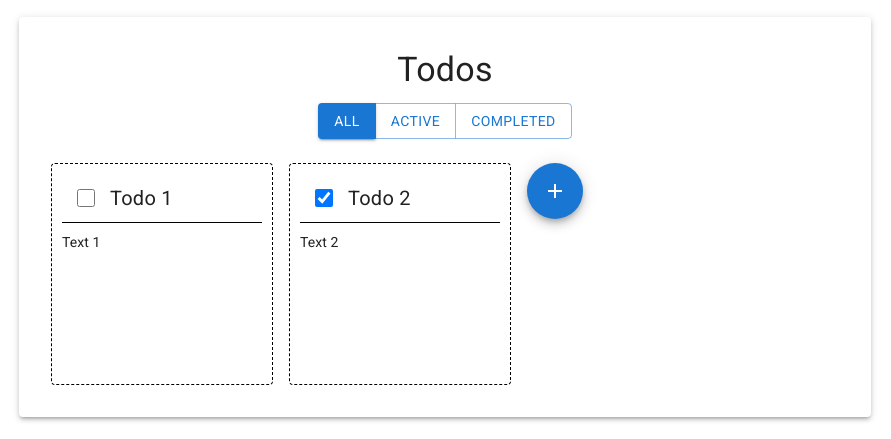
Scenario: App › filters active todos
The width and height of the screenshot is (891, 439).
expect the text "Todo 1" is shown: met, box [110,186,173,210]
What coordinates should you click on to do the following:
click the button "Active"
I would click on:
 (415, 121)
Its box is [375,103,456,139].
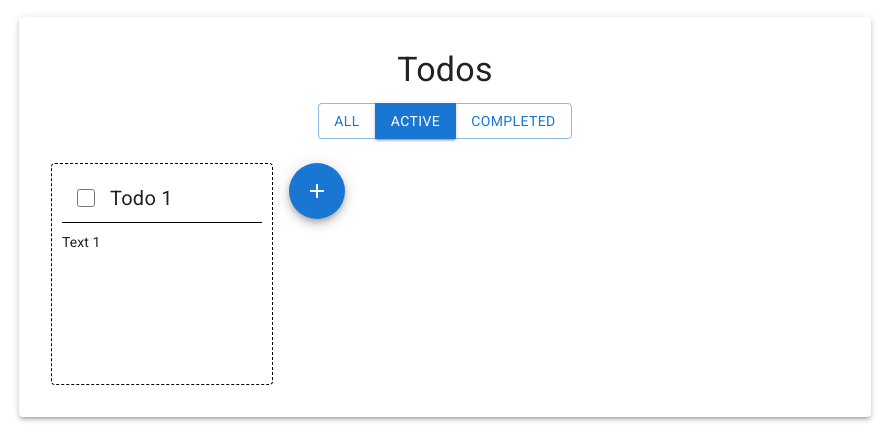
expect the text "Todo 1" is shown: met, box [110,186,173,210]
expect the text "Todo 2" is gone: met
